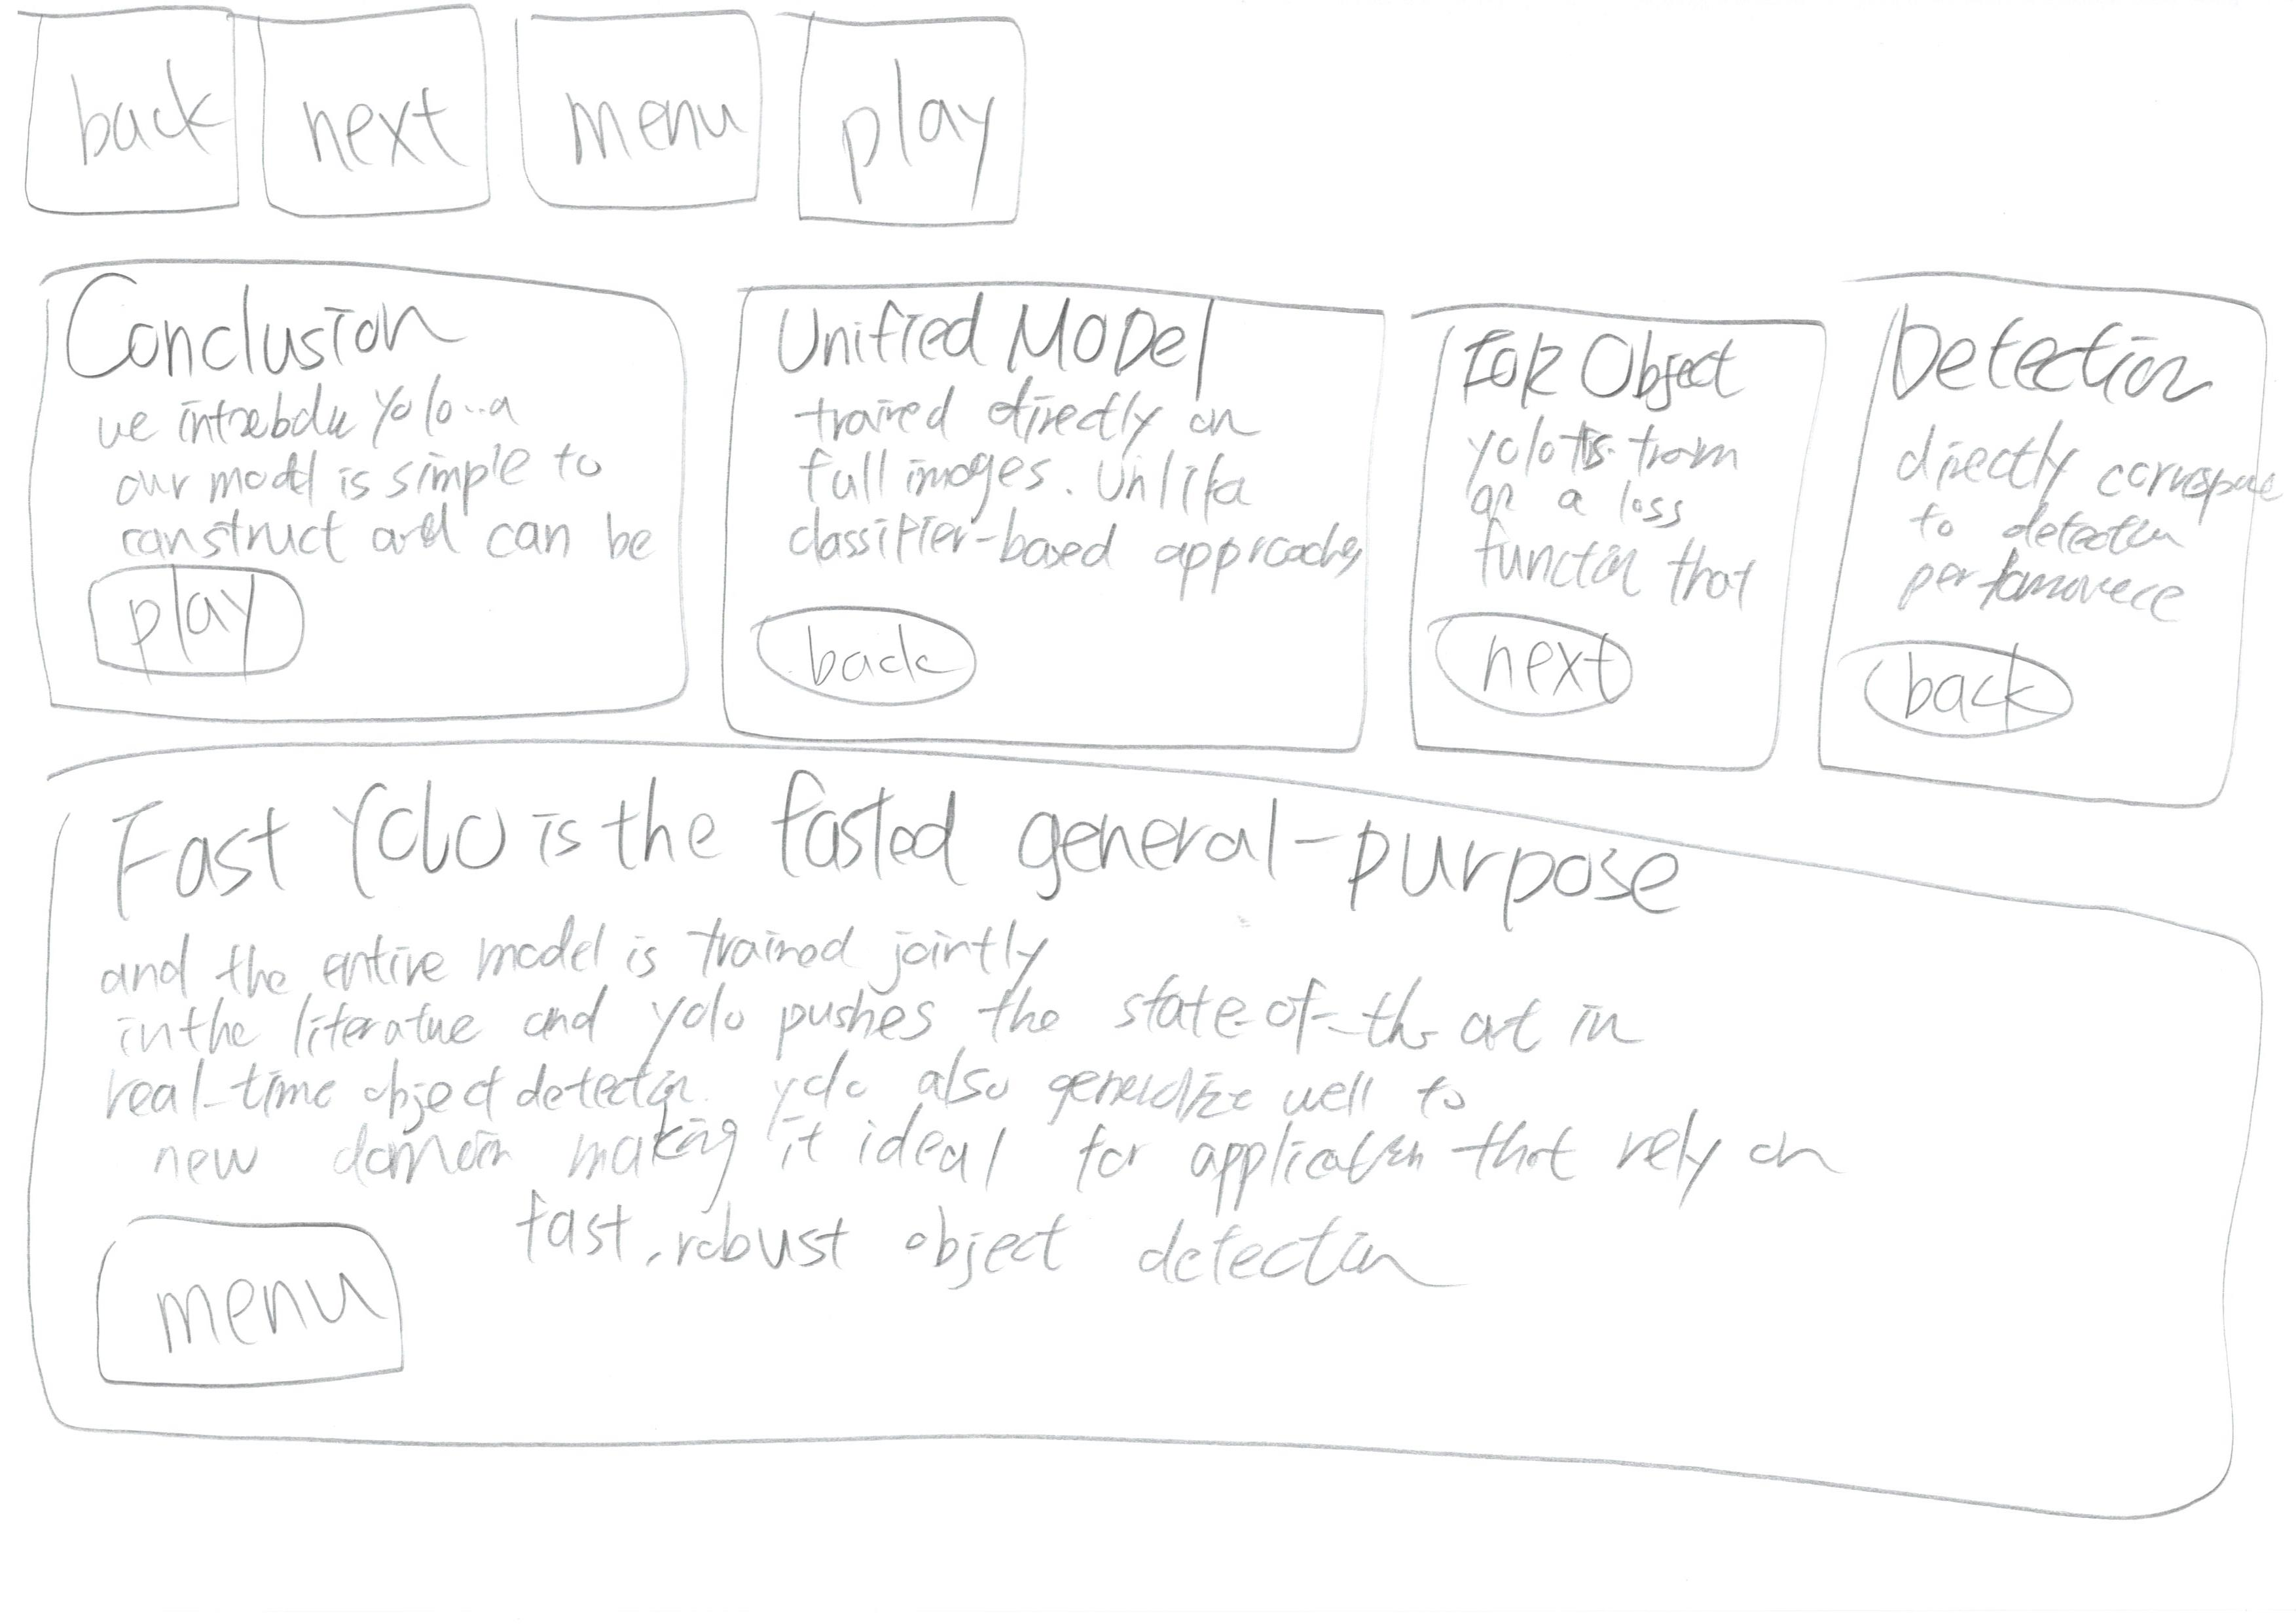back: (4, 0, 262, 232), (1846, 610, 2134, 765), (737, 584, 1034, 731)
menu: (63, 1193, 436, 1413), (505, 0, 774, 244)
next: (239, 0, 513, 236), (1426, 603, 1681, 742)
play: (777, 0, 1050, 241), (69, 557, 353, 698)
quadruple: (0, 227, 721, 758), (691, 246, 1412, 777), (1373, 251, 1849, 807), (1804, 258, 2280, 814)
row: (25, 728, 2296, 1562), (25, 236, 2296, 837), (0, 0, 2271, 262)
single: (11, 740, 2296, 1506)
small-title: (114, 777, 1644, 940), (781, 292, 1232, 397), (69, 271, 420, 385), (1443, 315, 1732, 431), (1890, 316, 2212, 418)
text: (58, 937, 1878, 1204), (534, 998, 1609, 1355), (772, 385, 1352, 584), (91, 394, 638, 568), (1899, 425, 2294, 615), (1447, 427, 1770, 603)
